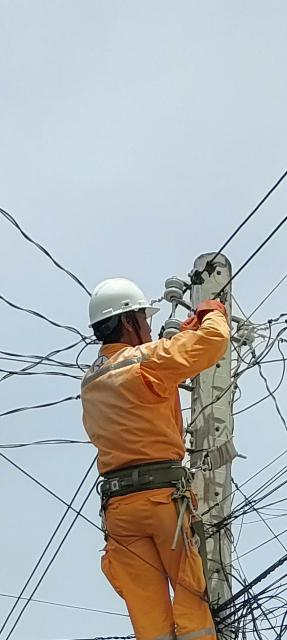gloves: (196, 290, 234, 326), (177, 310, 209, 344)
harness: (71, 444, 194, 497)
helmet: (73, 273, 163, 338)
